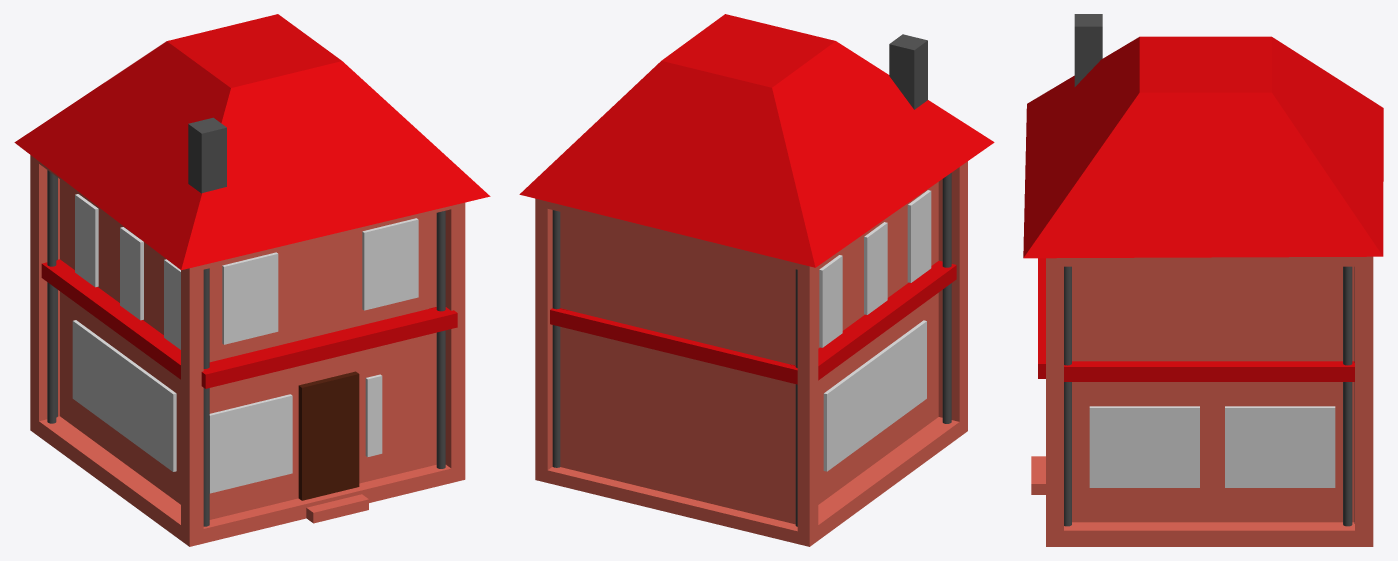
File: House.fbx
3 renders of one model, left to right at view 1: azimuth 30°, elevation 25°; view 2: azimuth 150°, elevation 25°; view 3: azimuth 270°, elevation 25°, orthographic. The views are drawn at different scales.
Visible parts, largest first — view 1: Cube, Cube.001, Cube.008, Cube.004, Cube.007, Cube.012, Cube.002, Cube.003, Cube.013, Cube.016, Cylinder, Cylinder.006 (+6 smaller); view 2: Cube, Cube.001, Cube.008, Cube.014, Cube.013, Cube.016, Cylinder.007, Cylinder.004, Cube.009, Cube.010, Cube.011, Cylinder.005; view 3: Cube.001, Cube, Cube.017, Cube.018, Cube.015, Cylinder.003, Cylinder.002, Cube.016, Cube.012, Cube.005.
Part boxes in pixels (x1,y1,x2,y2): Cube: [30, 155, 465, 546]; Cube.001: [14, 14, 490, 270]; Cube.008: [72, 320, 176, 471]; Cube.004: [298, 371, 359, 500]; Cube.007: [209, 394, 292, 493]; Cube.012: [201, 307, 457, 388]; Cube.002: [222, 252, 278, 344]; Cube.003: [362, 218, 418, 310]; Cube.013: [41, 259, 180, 379]; Cube.016: [188, 117, 226, 193]; Cylinder: [436, 210, 445, 468]; Cylinder.006: [47, 170, 56, 423]; Cube: [535, 161, 967, 546]; Cube.001: [519, 14, 994, 267]; Cube.008: [823, 320, 926, 471]; Cube.014: [550, 308, 797, 384]; Cube.013: [789, 260, 956, 380]; Cube.016: [889, 34, 927, 109]; Cylinder.007: [942, 173, 951, 423]; Cylinder.004: [552, 210, 560, 467]; Cube.009: [907, 190, 931, 282]; Cube.010: [864, 222, 887, 314]; Cube.011: [819, 255, 842, 347]; Cylinder.005: [795, 269, 797, 526]; Cube.001: [1023, 36, 1383, 258]; Cube: [1046, 256, 1373, 546]; Cube.017: [1089, 406, 1199, 487]; Cube.018: [1225, 406, 1335, 487]; Cube.015: [1064, 361, 1354, 381]; Cylinder.003: [1343, 266, 1352, 526]; Cylinder.002: [1064, 266, 1071, 526]; Cube.016: [1074, 14, 1102, 86]; Cube.012: [1038, 258, 1045, 378]; Cube.005: [1031, 456, 1045, 494].
Size of the model in its own units: 4489 by 5635 by 4427.
